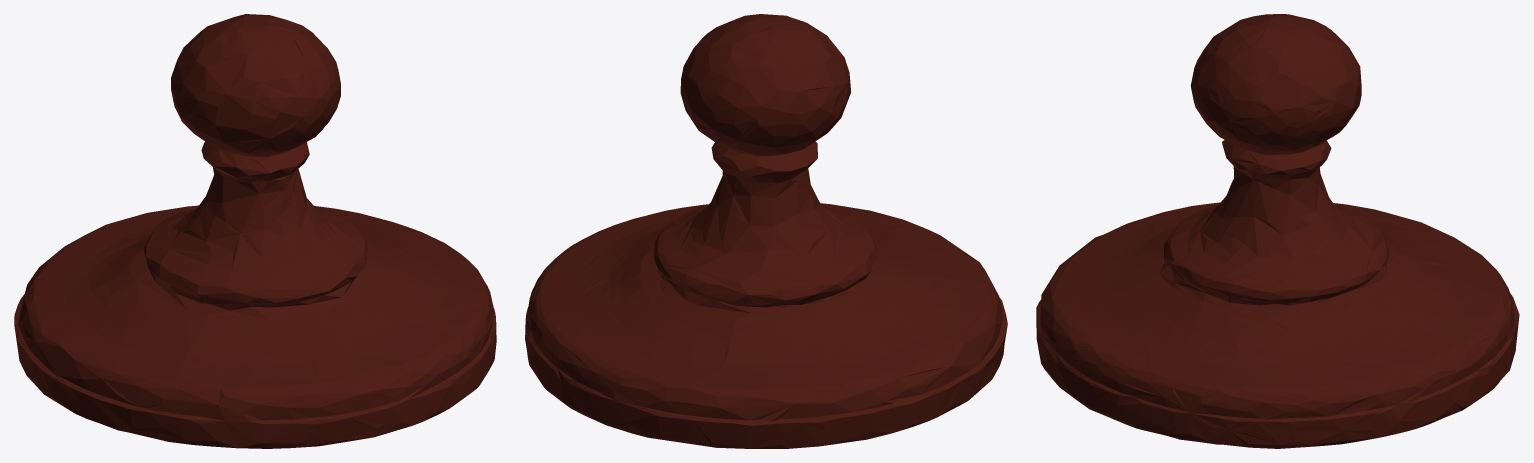
The model's file is pawn_classic_ai.glb.
3 renders of one model, left to right at view 1: azimuth 30°, elevation 25°; view 2: azimuth 150°, elevation 25°; view 3: azimuth 270°, elevation 25°, orthographic.
Visible parts, largest first — view 1: geometry_0; view 2: geometry_0; view 3: geometry_0.
Part boxes in pixels (x1,y1,x2,y2): geometry_0: (14,14,496,448); geometry_0: (525,14,1007,448); geometry_0: (1036,14,1519,448).
Size of the model in its own units: 0.032 by 0.024 by 0.032.
